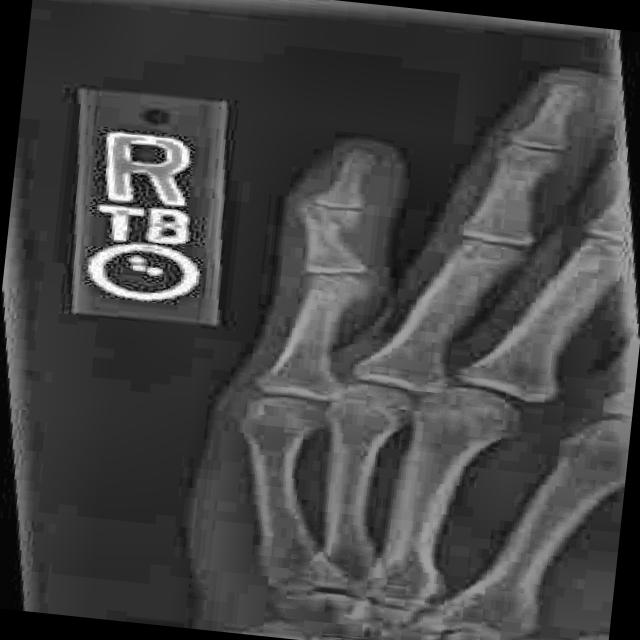fingers positive: (287, 198, 371, 248)
